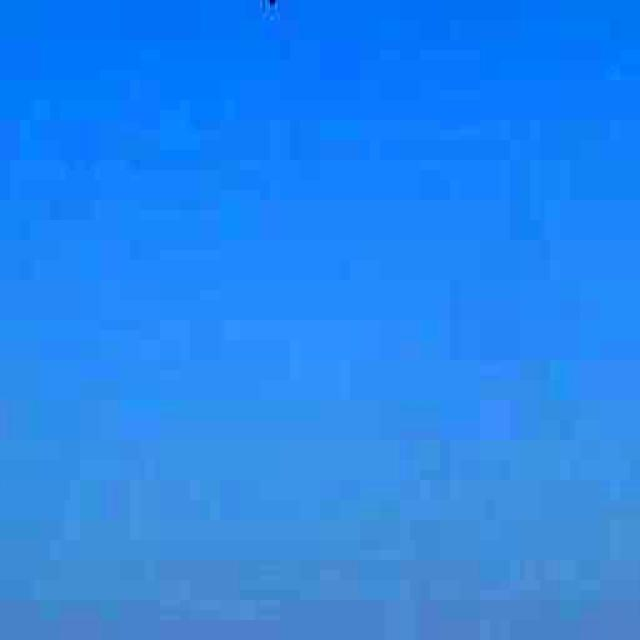bird: (245, 0, 310, 19)
